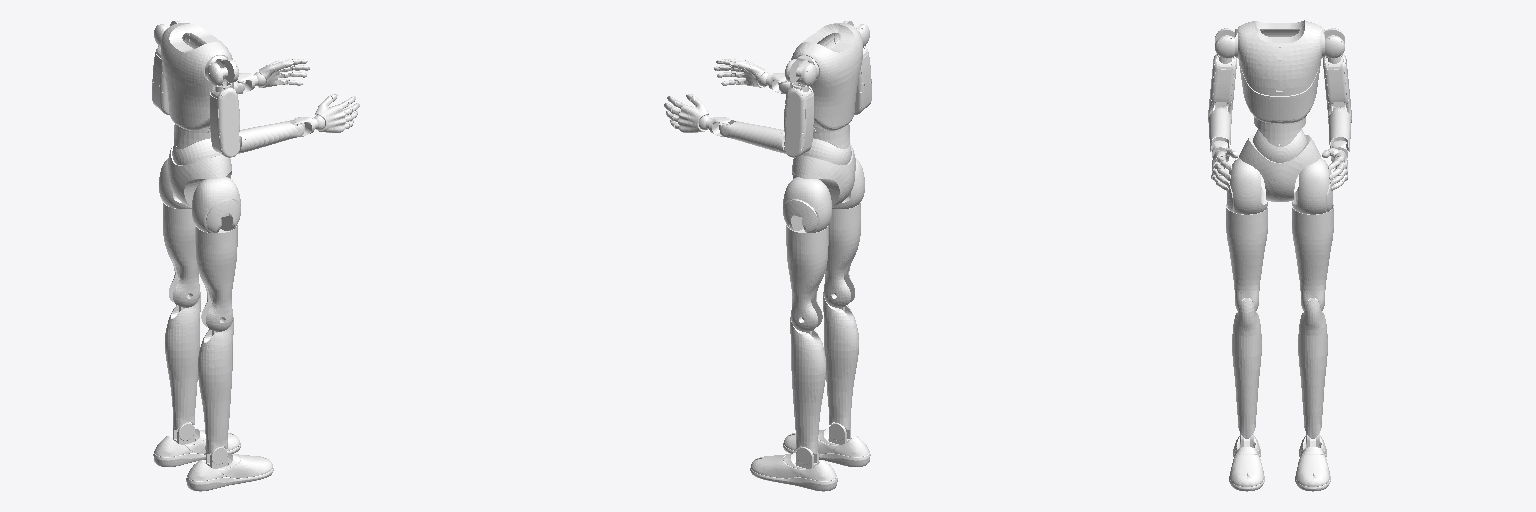
--- What the picture shows (computed from the rendered views, not written in the file) ---
The picture shows the robot from 3 angles, left to right: view 1: azimuth 30°, elevation 25°; view 2: azimuth 150°, elevation 25°; view 3: azimuth 270°, elevation 25°; orthographic projection.
Robot: X03B — 29 links, 28 joints (28 revolute); root link pelvis; default pose: every joint at zero.
Visible links, largest first — view 1: torso_link, right_knee_link, left_knee_link, right_hip_yaw_link, left_hip_yaw_link, pelvis, right_hip_pitch_link, right_ankle_roll_link, right_shoulder_yaw_link, left_ankle_roll_link, right_wrist_yaw_link, left_wrist_yaw_link (+4 smaller); view 2: torso_link, left_knee_link, right_knee_link, left_hip_yaw_link, right_hip_yaw_link, pelvis, left_hip_pitch_link, left_ankle_roll_link, left_shoulder_yaw_link, right_ankle_roll_link, left_wrist_yaw_link, right_wrist_yaw_link (+4 smaller); view 3: torso_link, pelvis, left_knee_link, right_knee_link, left_hip_yaw_link, right_hip_yaw_link, left_hip_pitch_link, right_hip_pitch_link, left_ankle_roll_link, right_ankle_roll_link, left_shoulder_yaw_link, right_shoulder_yaw_link (+6 smaller).
Boxes of the visible links, <box> form: torso_link: <box>161,23,233,148</box>; right_knee_link: <box>198,317,233,453</box>; left_knee_link: <box>165,292,200,429</box>; right_hip_yaw_link: <box>195,224,237,331</box>; left_hip_yaw_link: <box>163,202,199,307</box>; pelvis: <box>168,138,231,207</box>; right_hip_pitch_link: <box>192,177,240,232</box>; right_ankle_roll_link: <box>186,453,273,491</box>; right_shoulder_yaw_link: <box>210,82,239,157</box>; left_ankle_roll_link: <box>153,429,240,466</box>; right_wrist_yaw_link: <box>293,94,359,136</box>; left_wrist_yaw_link: <box>238,59,309,93</box>; torso_link: <box>790,23,862,148</box>; left_knee_link: <box>790,317,825,453</box>; right_knee_link: <box>823,292,858,429</box>; left_hip_yaw_link: <box>786,224,828,331</box>; right_hip_yaw_link: <box>824,202,860,307</box>; pelvis: <box>792,138,855,207</box>; left_hip_pitch_link: <box>783,177,831,232</box>; left_ankle_roll_link: <box>750,453,837,491</box>; left_shoulder_yaw_link: <box>784,82,813,157</box>; right_ankle_roll_link: <box>783,429,870,466</box>; left_wrist_yaw_link: <box>664,94,730,136</box>; right_wrist_yaw_link: <box>714,59,785,93</box>; torso_link: <box>1238,20,1321,146</box>; pelvis: <box>1239,130,1320,201</box>; left_knee_link: <box>1298,298,1327,438</box>; right_knee_link: <box>1232,298,1261,438</box>; left_hip_yaw_link: <box>1292,204,1333,310</box>; right_hip_yaw_link: <box>1226,204,1267,310</box>; left_hip_pitch_link: <box>1292,158,1332,214</box>; right_hip_pitch_link: <box>1227,158,1267,214</box>; left_ankle_roll_link: <box>1295,436,1330,491</box>; right_ankle_roll_link: <box>1229,436,1264,491</box>; left_shoulder_yaw_link: <box>1323,54,1351,122</box>; right_shoulder_yaw_link: <box>1208,54,1236,122</box>.
Size in the robot's own frame: 0.5613 by 0.4263 by 1.44 metres.
Meshes: 29 distinct files referenced, 29 mesh visuals loaded (29 binary STL).

URDF robot description (X03B):
<robot name="X03B">

  <mujoco>
    <compiler meshdir="./meshes" discardvisual="false" />
  </mujoco>



  <link name="pelvis">
    <inertial>
      <origin xyz="0 0 0.11577583" rpy="0 0 0" />
      <mass value="3.65" />
      <inertia ixx="0.01846548" ixy="-0.00000036" ixz="0.00000008" iyy="0.01905011" iyz="0.00000014" izz="0.0127755" />
    </inertial>
    <visual>
      <origin xyz="0 0 0" rpy="0 0 0" />
      <geometry>
        <mesh filename="meshes/pelvis.STL" />
      </geometry>
      <material name="">
        <color rgba="1 1 1 1" />
      </material>
    </visual>
    <collision>
      <origin xyz="0 0 0" rpy="0 0 0" />
      <geometry>
        <mesh filename="meshes/pelvis.STL" />
      </geometry>
    </collision>
  </link>
  <link name="left_hip_pitch_link">
    <inertial>
      <origin xyz="-0.00007014 0.04169743 -0.02056864" rpy="0 0 0" />
      <mass value="2.167" />
      <inertia ixx="0.00622358" ixy="0" ixz="0" iyy="0.00797221" iyz="0" izz="0.00524355" />
    </inertial>
    <visual>
      <origin xyz="0 0 0" rpy="0 0 0" />
      <geometry>
        <mesh filename="meshes/left_hip_pitch_link.STL" />
      </geometry>
      <material name="">
        <color rgba="1 1 1 1" />
      </material>
    </visual>
    <collision>
      <origin xyz="0 0 0" rpy="0 0 0" />
      <geometry>
        <mesh filename="meshes/left_hip_pitch_link.STL" />
      </geometry>
    </collision>
  </link>
  <joint name="left_hip_pitch_joint" type="revolute">
    <origin xyz="0 0.056998 0.044" rpy="0 0 0" />
    <parent link="pelvis" />
    <child link="left_hip_pitch_link" />
    <axis xyz="0 1 0" />
    <limit lower="-2.3562" upper="2.3562" effort="75" velocity="6.28" />
  </joint>
  <link name="left_hip_roll_link">
    <inertial>
      <origin xyz="0 0 -0.03313914" rpy="0 0 0" />
      <mass value="0.05" />
      <inertia ixx="0.00000448" ixy="0" ixz="0" iyy="0.00000448" iyz="0" izz="0.00000563" />
    </inertial>
    <visual>
      <origin xyz="0 0 0" rpy="0 0 0" />
      <geometry>
        <mesh filename="meshes/left_hip_roll_link.STL" />
      </geometry>
      <material name="">
        <color rgba="1 1 1 1" />
      </material>
    </visual>
    <collision>
      <origin xyz="0 0 0" rpy="0 0 0" />
      <geometry>
        <mesh filename="meshes/left_hip_roll_link.STL" />
      </geometry>
    </collision>
  </link>
  <joint name="left_hip_roll_joint" type="revolute">
    <origin xyz="0 0.040491 -0.044" rpy="0 0 0" />
    <parent link="left_hip_pitch_link" />
    <child link="left_hip_roll_link" />
    <axis xyz="1 0 0" />
    <limit lower="-0.5236" upper="1.6581" effort="140.2" velocity="20.94" />
  </joint>
  <link name="left_hip_yaw_link">
    <inertial>
      <origin xyz="0.00240937 0 -0.17118041" rpy="0 0 0" />
      <mass value="2.4" />
      <inertia ixx="0.01591187" ixy="0.00000005" ixz="-0.00051861" iyy="0.01593705" iyz="-0.00000022" izz="0.00376763" />
    </inertial>
    <visual>
      <origin xyz="0 0 0" rpy="0 0 0" />
      <geometry>
        <mesh filename="meshes/left_hip_yaw_link.STL" />
      </geometry>
      <material name="">
        <color rgba="1 1 1 1" />
      </material>
    </visual>
<!--    <collision>-->
<!--      <origin xyz="0 0 0" rpy="0 0 0" />-->
<!--      <geometry>-->
<!--        <mesh filename="meshes/left_hip_yaw_link.STL" />-->
<!--      </geometry>-->
<!--    </collision>-->
  </link>
  <joint name="left_hip_yaw_joint" type="revolute">
    <origin xyz="0 0 0" rpy="0 0 0" />
    <parent link="left_hip_roll_link" />
    <child link="left_hip_yaw_link" />
    <axis xyz="0 0 1" />
    <limit lower="-1.9199" upper="3.1416" effort="88.2" velocity="20.94" />
  </joint>
  <link name="left_knee_link">
    <inertial>
      <origin xyz="0.00029886 0 -0.21070506" rpy="0 0 0" />
      <mass value="1.5" />
      <inertia ixx="0.01590369" ixy="0" ixz="0.00028931" iyy="0.01627459" iyz="0" izz="0.00147099" />
    </inertial>
    <visual>
      <origin xyz="0 0 0" rpy="0 0 0" />
      <geometry>
        <mesh filename="meshes/left_knee_link.STL" />
      </geometry>
      <material name="">
        <color rgba="1 1 1 1" />
      </material>
    </visual>
    <collision>
      <origin xyz="0 0 0" rpy="0 0 0" />
      <geometry>
        <mesh filename="meshes/left_knee_link.STL" />
      </geometry>
    </collision>
  </link>
  <joint name="left_knee_joint" type="revolute">
    <origin xyz="0 0 -0.339" rpy="0 0 0" />
    <parent link="left_hip_yaw_link" />
    <child link="left_knee_link" />
    <axis xyz="0 1 0" />
    <limit lower="0" upper="2.3562" effort="140.2" velocity="20.71" />
  </joint>
  <link name="left_ankle_pitch_link">
    <inertial>
      <origin xyz="0.00046495 0 -0.03562666" rpy="0 0 0" />
      <mass value="0.5" />
      <inertia ixx="0.00043979" ixy="0" ixz="0" iyy="0.00048777" iyz="0" izz="0.00019678" />
    </inertial>
    <visual>
      <origin xyz="0 0 0" rpy="0 0 0" />
      <geometry>
        <mesh filename="meshes/left_ankle_pitch_link.STL" />
      </geometry>
      <material name="">
        <color rgba="1 1 1 1" />
      </material>
    </visual>
    <collision>
      <origin xyz="0 0 0" rpy="0 0 0" />
      <geometry>
        <mesh filename="meshes/left_ankle_pitch_link.STL" />
      </geometry>
    </collision>
  </link>
  <joint name="left_ankle_pitch_joint" type="revolute">
    <origin xyz="0 0 -0.45" rpy="0 0 0" />
    <parent link="left_knee_link" />
    <child link="left_ankle_pitch_link" />
    <axis xyz="0 1 0" />
    <limit lower="-1.0472" upper="1.0472" effort="50.6" velocity="20.68" />
  </joint>
  <link name="left_ankle_roll_link">
    <inertial>
      <origin xyz="0.05278947 -0.000008 -0.0124553" rpy="0 0 0" />
      <mass value="1" />
      <inertia ixx="0.00097623" ixy="0.00000016" ixz="-0.00019555" iyy="0.00629204" iyz="0.00000009" izz="0.0065008" />
    </inertial>
    <visual>
      <origin xyz="0 0 0" rpy="0 0 0" />
      <geometry>
        <mesh filename="meshes/left_ankle_roll_link.STL" />
      </geometry>
      <material name="">
        <color rgba="1 1 1 1" />
      </material>
    </visual>
    <collision><origin xyz="-0.085  0 -0.036"/><geometry><sphere radius="0.005"/></geometry></collision>
    <collision><origin xyz="-0.035  0.034 -0.036"/><geometry><sphere radius="0.005"/></geometry></collision>
    <collision><origin xyz="-0.035 -0.034 -0.036"/><geometry><sphere radius="0.005"/></geometry></collision>
    <collision><origin xyz="0.12    0.045 -0.036"/><geometry><sphere radius="0.005"/></geometry></collision>
    <collision><origin xyz="0.12   -0.045 -0.036"/><geometry><sphere radius="0.005"/></geometry></collision>
    <collision><origin xyz="0.18  0  -0.036"/><geometry><sphere radius="0.005"/></geometry></collision>
    <collision>
            <origin xyz="0.08 -0.026 -0.024" rpy="0 1.5708 0"/>
            <geometry>
                <cylinder radius="0.01" length="0.1"/>
            </geometry>
    </collision>
    <collision>
            <origin xyz="0.044 -0.018 -0.024" rpy="0 -1.5708 0"/>
            <geometry>
                <cylinder radius="0.01" length="0.2"/>
            </geometry>
    </collision>
    <collision>
            <origin xyz="0.046 -0.01 -0.024" rpy="0 -1.5708 0"/>
            <geometry>
                <cylinder radius="0.01" length="0.24"/>
            </geometry>
    </collision>
    <collision>
            <origin xyz="0.048 0 -0.024" rpy="0 -1.5708 0"/>
            <geometry>
                <cylinder radius="0.01" length="0.25"/>
            </geometry>
    </collision>
    <collision>
            <origin xyz="0.046 0.01 -0.024" rpy="0 -1.5708 0"/>
            <geometry>
                <cylinder radius="0.01" length="0.24"/>
            </geometry>
    </collision>
    <collision>
            <origin xyz="0.044 0.018 -0.024" rpy="0 -1.5708 0"/>
            <geometry>
                <cylinder radius="0.01" length="0.2"/>
            </geometry>
    </collision>
    <collision>
            <origin xyz="0.08 0.026 -0.024" rpy="0 1.5708 0"/>
            <geometry>
                <cylinder radius="0.01" length="0.1"/>
            </geometry>
    </collision>
  </link>
  <joint name="left_ankle_roll_joint" type="revolute">
    <origin xyz="0 0 -0.058" rpy="0 0 0" />
    <parent link="left_ankle_pitch_link" />
    <child link="left_ankle_roll_link" />
    <axis xyz="1 0 0" />
    <limit lower="-0.5236" upper="0.5236" effort="50" velocity="20.19" />
  </joint>
  <link name="right_hip_pitch_link">
    <inertial>
      <origin xyz="-0.00007014 -0.04169743 -0.02056864" rpy="0 0 0" />
      <mass value="2.167" />
      <inertia ixx="0.00622358" ixy="0" ixz="0" iyy="0.00797221" iyz="0" izz="0.00524355" />
    </inertial>
    <visual>
      <origin xyz="0 0 0" rpy="0 0 0" />
      <geometry>
        <mesh filename="meshes/right_hip_pitch_link.STL" />
      </geometry>
      <material name="">
        <color rgba="1 1 1 1" />
      </material>
    </visual>
    <collision>
      <origin xyz="0 0 0" rpy="0 0 0" />
      <geometry>
        <mesh filename="meshes/right_hip_pitch_link.STL" />
      </geometry>
    </collision>
  </link>
  <joint name="right_hip_pitch_joint" type="revolute">
    <origin xyz="0 -0.056998 0.044" rpy="0 0 0" />
    <parent link="pelvis" />
    <child link="right_hip_pitch_link" />
    <axis xyz="0 1 0" />
    <limit lower="-2.3562" upper="2.3562" effort="88" velocity="20.28" />
  </joint>
  <link name="right_hip_roll_link">
    <inertial>
      <origin xyz="0 0 -0.03313914" rpy="0 0 0" />
      <mass value="0.05" />
      <inertia ixx="0.00000448" ixy="0" ixz="0" iyy="0.00000448" iyz="0" izz="0.00000563" />
    </inertial>
    <visual>
      <origin xyz="0 0 0" rpy="0 0 0" />
      <geometry>
        <mesh filename="meshes/right_hip_roll_link.STL" />
      </geometry>
      <material name="">
        <color rgba="1 1 1 1" />
      </material>
    </visual>
    <collision>
      <origin xyz="0 0 0" rpy="0 0 0" />
      <geometry>
        <mesh filename="meshes/right_hip_roll_link.STL" />
      </geometry>
    </collision>
  </link>
  <joint name="right_hip_roll_joint" type="revolute">
    <origin xyz="0 -0.040491 -0.044" rpy="0 0 0" />
    <parent link="right_hip_pitch_link" />
    <child link="right_hip_roll_link" />
    <axis xyz="1 0 0" />
    <limit lower="-1.6581" upper="0.5236" effort="140.2" velocity="20.94" />
  </joint>
  <link name="right_hip_yaw_link">
    <inertial>
      <origin xyz="0.00240937 0 -0.17118041" rpy="0 0 0" />
      <mass value="2.4" />
      <inertia ixx="0.01591187" ixy="0.00000005" ixz="-0.00051861" iyy="0.01593705" iyz="-0.00000022" izz="0.00376763" />
    </inertial>
    <visual>
      <origin xyz="0 0 0" rpy="0 0 0" />
      <geometry>
        <mesh filename="meshes/right_hip_yaw_link.STL" />
      </geometry>
      <material name="">
        <color rgba="1 1 1 1" />
      </material>
    </visual>
<!--    <collision>-->
<!--      <origin xyz="0 0 0" rpy="0 0 0" />-->
<!--      <geometry>-->
<!--        <mesh filename="meshes/right_hip_yaw_link.STL" />-->
<!--      </geometry>-->
<!--    </collision>-->
  </link>
  <joint name="right_hip_yaw_joint" type="revolute">
    <origin xyz="0 0 0" rpy="0 0 0" />
    <parent link="right_hip_roll_link" />
    <child link="right_hip_yaw_link" />
    <axis xyz="0 0 1" />
    <limit lower="-3.1416" upper="1.9199" effort="88.2" velocity="20.94" />
  </joint>
  <link name="right_knee_link">
    <inertial>
      <origin xyz="0.00029886 0 -0.21070506" rpy="0 0 0" />
      <mass value="1.5" />
      <inertia ixx="0.01590369" ixy="0" ixz="0.00028931" iyy="0.01627459" iyz="0" izz="0.00147099" />
    </inertial>
    <visual>
      <origin xyz="0 0 0" rpy="0 0 0" />
      <geometry>
        <mesh filename="meshes/right_knee_link.STL" />
      </geometry>
      <material name="">
        <color rgba="1 1 1 1" />
      </material>
    </visual>
    <collision>
      <origin xyz="0 0 0" rpy="0 0 0" />
      <geometry>
        <mesh filename="meshes/right_knee_link.STL" />
      </geometry>
    </collision>
  </link>
  <joint name="right_knee_joint" type="revolute">
    <origin xyz="0 0 -0.339" rpy="0 0 0" />
    <parent link="right_hip_yaw_link" />
    <child link="right_knee_link" />
    <axis xyz="0 1 0" />
    <limit lower="0" upper="2.3562" effort="140.2" velocity="20.71" />
  </joint>
  <link name="right_ankle_pitch_link">
    <inertial>
      <origin xyz="0.00046495 0 -0.03562666" rpy="0 0 0" />
      <mass value="0.5" />
      <inertia ixx="0.00043979" ixy="0" ixz="0" iyy="0.00048777" iyz="0" izz="0.00019678" />
    </inertial>
    <visual>
      <origin xyz="0 0 0" rpy="0 0 0" />
      <geometry>
        <mesh filename="meshes/right_ankle_pitch_link.STL" />
      </geometry>
      <material name="">
        <color rgba="1 1 1 1" />
      </material>
    </visual>
    <collision>
      <origin xyz="0 0 0" rpy="0 0 0" />
      <geometry>
        <mesh filename="meshes/right_ankle_pitch_link.STL" />
      </geometry>
    </collision>
  </link>
  <joint name="right_ankle_pitch_joint" type="revolute">
    <origin xyz="0 0 -0.45" rpy="0 0 0" />
    <parent link="right_knee_link" />
    <child link="right_ankle_pitch_link" />
    <axis xyz="0 1 0" />
    <limit lower="-1.0472" upper="1.0472" effort="50.6" velocity="20.68" />
  </joint>
  <link name="right_ankle_roll_link">
    <inertial>
      <origin xyz="0.05278947 -0.000008 -0.0124553" rpy="0 0 0" />
      <mass value="1" />
      <inertia ixx="0.00097623" ixy="0.00000016" ixz="-0.00019555" iyy="0.00629204" iyz="0.00000009" izz="0.0065008" />
    </inertial>
    <visual>
      <origin xyz="0 0 0" rpy="0 0 0" />
      <geometry>
        <mesh filename="meshes/right_ankle_roll_link.STL" />
      </geometry>
      <material name="">
        <color rgba="1 1 1 1" />
      </material>
    </visual>
    <collision><origin xyz="-0.085  0 -0.036"/><geometry><sphere radius="0.005"/></geometry></collision>
    <collision><origin xyz="-0.035  0.034 -0.036"/><geometry><sphere radius="0.005"/></geometry></collision>
    <collision><origin xyz="-0.035 -0.034 -0.036"/><geometry><sphere radius="0.005"/></geometry></collision>
    <collision><origin xyz="0.12    0.045 -0.036"/><geometry><sphere radius="0.005"/></geometry></collision>
    <collision><origin xyz="0.12   -0.045 -0.036"/><geometry><sphere radius="0.005"/></geometry></collision>
    <collision><origin xyz="0.18  0  -0.036"/><geometry><sphere radius="0.005"/></geometry></collision>
    <collision>
            <origin xyz="0.08 -0.026 -0.024" rpy="0 1.5708 0"/>
            <geometry>
                <cylinder radius="0.01" length="0.1"/>
            </geometry>
    </collision>
    <collision>
            <origin xyz="0.044 -0.018 -0.024" rpy="0 -1.5708 0"/>
            <geometry>
                <cylinder radius="0.01" length="0.2"/>
            </geometry>
    </collision>
    <collision>
            <origin xyz="0.046 -0.01 -0.024" rpy="0 -1.5708 0"/>
            <geometry>
                <cylinder radius="0.01" length="0.24"/>
            </geometry>
    </collision>
    <collision>
            <origin xyz="0.048 0 -0.024" rpy="0 -1.5708 0"/>
            <geometry>
                <cylinder radius="0.01" length="0.25"/>
            </geometry>
    </collision>
    <collision>
            <origin xyz="0.046 0.01 -0.024" rpy="0 -1.5708 0"/>
            <geometry>
                <cylinder radius="0.01" length="0.24"/>
            </geometry>
    </collision>
    <collision>
            <origin xyz="0.044 0.018 -0.024" rpy="0 -1.5708 0"/>
            <geometry>
                <cylinder radius="0.01" length="0.2"/>
            </geometry>
    </collision>
    <collision>
            <origin xyz="0.08 0.026 -0.024" rpy="0 1.5708 0"/>
            <geometry>
                <cylinder radius="0.01" length="0.1"/>
            </geometry>
    </collision>
  </link>
  <joint name="right_ankle_roll_joint" type="revolute">
    <origin xyz="0 0 -0.058" rpy="0 0 0" />
    <parent link="right_ankle_pitch_link" />
    <child link="right_ankle_roll_link" />
    <axis xyz="1 0 0" />
    <limit lower="-0.5236" upper="0.5236" effort="50" velocity="20.19" />
  </joint>
  <link name="waist_roll_link">
    <inertial>
      <origin xyz="0 0 0" rpy="0 0 0" />
      <mass value="0.05" />
      <inertia ixx="0.00000563" ixy="0" ixz="0" iyy="0.00000448" iyz="0" izz="0.00000448" />
    </inertial>
    <visual>
      <origin xyz="0 0 0" rpy="0 0 0" />
      <geometry>
        <mesh filename="meshes/waist_roll_link.STL" />
      </geometry>
      <material name="">
        <color rgba="1 1 1 1" />
      </material>
    </visual>
  </link>
  <joint name="waist_roll_joint" type="revolute">
    <origin xyz="0 0 0.1945" rpy="0 0 0" />
    <parent link="pelvis" />
    <child link="waist_roll_link" />
    <axis xyz="1 0 0" />
    <limit lower="-0.3491" upper="0.3491" effort="60.2" velocity="20.94" />
  </joint>

  <link name="torso_link">
    <inertial>
      <origin xyz="-0.00239171 -0.00000374 0.17963234" rpy="0 0 0" />
      <mass value="3" />
      <inertia ixx="0.0276623" ixy="0.00000008" ixz="-0.000633" iyy="0.02528834" iyz="-0.00000034" izz="0.01678696" />
    </inertial>
    <visual>
      <origin xyz="0 0 0" rpy="0 0 0" />
      <geometry>
        <mesh filename="meshes/torso_link.STL" />
      </geometry>
      <material name="">
        <color rgba="1 1 1 1" />
      </material>
    </visual>
<!--    <collision>-->
<!--      <origin xyz="0 0 0" rpy="0 0 0" />-->
<!--      <geometry>-->
<!--        <mesh filename="meshes/torso_link.STL" />-->
<!--      </geometry>-->
<!--    </collision>-->
  </link>
  <joint name="waist_yaw_joint" type="revolute">
    <origin xyz="0 0 0" rpy="0 0 0" />
    <parent link="waist_roll_link" />
    <child link="torso_link" />
    <axis xyz="0 0 1" />
    <limit lower="-1.8326" upper="1.8326" effort="60.2" velocity="20.94" />
  </joint>
  <link name="left_shoulder_pitch_link">
    <inertial>
      <origin xyz="0.00000104 0.02551192 0" rpy="0 0 0" />
      <mass value="1.22" />
      <inertia ixx="0.00125717" ixy="0.00000002" ixz="-0.00000002" iyy="0.00148057" iyz="0" izz="0.00148131" />
    </inertial>
    <visual>
      <origin xyz="0 0 0" rpy="0 0 0" />
      <geometry>
        <mesh filename="meshes/left_shoulder_pitch_link.STL" />
      </geometry>
      <material name="">
        <color rgba="1 1 1 1" />
      </material>
    </visual>
    <collision>
      <origin xyz="0 0 0" rpy="0 0 0" />
      <geometry>
        <mesh filename="meshes/left_shoulder_pitch_link.STL" />
      </geometry>
    </collision>
  </link>
  <joint name="left_shoulder_pitch_joint" type="revolute">
    <origin xyz="-0.012293 0.12327 0.2885" rpy="0 0 0" />
    <parent link="torso_link" />
    <child link="left_shoulder_pitch_link" />
    <axis xyz="0 1 0" />
    <limit lower="-3.1416" upper="1.5708" effort="50" velocity="12.51" />
  </joint>
  <link name="left_shoulder_roll_link">
    <inertial>
      <origin xyz="0 0 0" rpy="0 0 0" />
      <mass value="0.05" />
      <inertia ixx="0.00000563" ixy="0" ixz="0" iyy="0.00000448" iyz="0" izz="0.00000448" />
    </inertial>
    <visual>
      <origin xyz="0 0 0" rpy="0 0 0" />
      <geometry>
        <mesh filename="meshes/left_shoulder_roll_link.STL" />
      </geometry>
      <material name="">
        <color rgba="1 1 1 1" />
      </material>
    </visual>
    <collision>
      <origin xyz="0 0 0" rpy="0 0 0" />
      <geometry>
        <mesh filename="meshes/left_shoulder_roll_link.STL" />
      </geometry>
    </collision>
  </link>
  <joint name="left_shoulder_roll_joint" type="revolute">
    <origin xyz="0 0.033483 0" rpy="0.087266 0 0" />
    <parent link="left_shoulder_pitch_link" />
    <child link="left_shoulder_roll_link" />
    <axis xyz="1 0 0" />
    <limit lower="0" upper="3.0543" effort="50.6" velocity="20.08" />
  </joint>
  <link name="left_shoulder_yaw_link">
    <inertial>
      <origin xyz="-0.00272365 -0.00000149 -0.13946043" rpy="0 0 0" />
      <mass value="1.5" />
      <inertia ixx="0.00629365" ixy="0" ixz="0.00029271" iyy="0.00652221" iyz="-0.00000006" izz="0.00170187" />
    </inertial>
    <visual>
      <origin xyz="0 0 0" rpy="0 0 0" />
      <geometry>
        <mesh filename="meshes/left_shoulder_yaw_link.STL" />
      </geometry>
      <material name="">
        <color rgba="1 1 1 1" />
      </material>
    </visual>
<!--    <collision>-->
<!--      <origin xyz="0 0 0" rpy="0 0 0" />-->
<!--      <geometry>-->
<!--        <mesh filename="meshes/left_shoulder_yaw_link.STL" />-->
<!--      </geometry>-->
<!--    </collision>-->
  </link>
  <joint name="left_shoulder_yaw_joint" type="revolute">
    <origin xyz="0 0 0" rpy="0 0 0" />
    <parent link="left_shoulder_roll_link" />
    <child link="left_shoulder_yaw_link" />
    <axis xyz="0 0 1" />
    <limit lower="-2.0071" upper="2.0071" effort="50.6" velocity="20.08" />
  </joint>
  <link name="left_elbow_link">
    <inertial>
      <origin xyz="0.01481996 -0.00000187 0.00294173" rpy="0 0 0" />
      <mass value="0.5" />
      <inertia ixx="0.00027423" ixy="-0.00000002" ixz="0.00000163" iyy="0.00029095" iyz="0.00000001" izz="0.00026785" />
    </inertial>
    <visual>
      <origin xyz="0 0 0" rpy="0 0 0" />
      <geometry>
        <mesh filename="meshes/left_elbow_link.STL" />
      </geometry>
      <material name="">
        <color rgba="1 1 1 1" />
      </material>
    </visual>
    <collision>
      <origin xyz="0 0 0" rpy="0 0 0" />
      <geometry>
        <mesh filename="meshes/left_elbow_link.STL" />
      </geometry>
    </collision>
  </link>
  <joint name="left_elbow_joint" type="revolute">
    <origin xyz="0 0 -0.23" rpy="0 0 0" />
    <parent link="left_shoulder_yaw_link" />
    <child link="left_elbow_link" />
    <axis xyz="0 1 0" />
    <limit lower="-0.4363" upper="1.5708" effort="50.8" velocity="20.33" />
  </joint>
  <link name="left_wrist_roll_link">
    <inertial>
      <origin xyz="0.13072566 0 -0.00002867" rpy="0 0 0" />
      <mass value="0.85" />
      <inertia ixx="0.00043014" ixy="0" ixz="-0.0000012" iyy="0.00228248" iyz="0" izz="0.0023166" />
    </inertial>
    <visual>
      <origin xyz="0 0 0" rpy="0 0 0" />
      <geometry>
        <mesh filename="meshes/left_wrist_roll_link.STL" />
      </geometry>
      <material name="">
        <color rgba="1 1 1 1" />
      </material>
    </visual>
    <collision>
      <origin xyz="0 0 0" rpy="0 0 0" />
      <geometry>
        <mesh filename="meshes/left_wrist_roll_link.STL" />
      </geometry>
    </collision>
  </link>
  <joint name="left_wrist_roll_joint" type="revolute">
    <origin xyz="0 0 0" rpy="0 0 0" />
    <parent link="left_elbow_link" />
    <child link="left_wrist_roll_link" />
    <axis xyz="1 0 0" />
    <limit lower="-2.0071" upper="2.0071" effort="20.8" velocity="7.33" />
  </joint>
  <link name="left_wrist_pitch_link">
    <inertial>
      <origin xyz="0.01258175 0 0" rpy="0 0 0" />
      <mass value="0.05" />
      <inertia ixx="0.00000412" ixy="0" ixz="0" iyy="0.00000746" iyz="0" izz="0.0000091" />
    </inertial>
    <visual>
      <origin xyz="0 0 0" rpy="0 0 0" />
      <geometry>
        <mesh filename="meshes/left_wrist_pitch_link.STL" />
      </geometry>
      <material name="">
        <color rgba="1 1 1 1" />
      </material>
    </visual>
    <collision>
      <origin xyz="0 0 0" rpy="0 0 0" />
      <geometry>
        <mesh filename="meshes/left_wrist_pitch_link.STL" />
      </geometry>
    </collision>
  </link>
  <joint name="left_wrist_pitch_joint" type="revolute">
    <origin xyz="0.235 0 0" rpy="0 0 0" />
    <parent link="left_wrist_roll_link" />
    <child link="left_wrist_pitch_link" />
    <axis xyz="0 1 0" />
    <limit lower="-0.6981" upper="0.6981" effort="20.8" velocity="10.74" />
  </joint>
  <link name="left_wrist_yaw_link">
    <inertial>
      <origin xyz="0.05034393 -0.00067096 0.00221444" rpy="0 0 0" />
      <mass value="0.055" />
      <inertia ixx="0.00003055" ixy="-0.00000403" ixz="0.00000829" iyy="0.00016306" iyz="-0.00000299" izz="0.00015005" />
    </inertial>
    <visual>
      <origin xyz="0 0 0" rpy="0 0 0" />
      <geometry>
        <mesh filename="meshes/left_wrist_yaw_link.STL" />
      </geometry>
      <material name="">
        <color rgba="1 1 1 1" />
      </material>
    </visual>
<!--    <collision>-->
<!--      <origin xyz="0 0 0" rpy="0 0 0" />-->
<!--      <geometry>-->
<!--        <mesh filename="meshes/left_wrist_yaw_link.STL" />-->
<!--      </geometry>-->
<!--    </collision>-->
  </link>
  <joint name="left_wrist_yaw_joint" type="revolute">
    <origin xyz="0.0215 0 0" rpy="0 0 0" />
    <parent link="left_wrist_pitch_link" />
    <child link="left_wrist_yaw_link" />
    <axis xyz="0 0 1" />
    <limit lower="-0.8727" upper="0.8727" effort="20.4" velocity="10.47" />
  </joint>
  <link name="right_shoulder_pitch_link">
    <inertial>
      <origin xyz="0.00000104 0.02551192 0" rpy="0 0 0" />
      <mass value="1.22" />
      <inertia ixx="0.00125717" ixy="0.00000002" ixz="-0.00000002" iyy="0.00148057" iyz="0" izz="0.00148131" />
    </inertial>
    <visual>
      <origin xyz="0 0 0" rpy="0 0 0" />
      <geometry>
        <mesh filename="meshes/right_shoulder_pitch_link.STL" />
      </geometry>
      <material name="">
        <color rgba="1 1 1 1" />
      </material>
    </visual>
    <collision>
      <origin xyz="0 0 0" rpy="0 0 0" />
      <geometry>
        <mesh filename="meshes/right_shoulder_pitch_link.STL" />
      </geometry>
    </collision>
  </link>
  <joint name="right_shoulder_pitch_joint" type="revolute">
    <origin xyz="-0.012293 -0.12327 0.2885" rpy="0 0 0" />
    <parent link="torso_link" />
    <child link="right_shoulder_pitch_link" />
    <axis xyz="0 1 0" />
    <limit lower="-3.1416" upper="1.5708" effort="50" velocity="12.51" />
  </joint>
  <link name="right_shoulder_roll_link">
    <inertial>
      <origin xyz="0 0 0" rpy="0 0 0" />
      <mass value="0.05" />
      <inertia ixx="0.00000563" ixy="0" ixz="0" iyy="0.00000448" iyz="0" izz="0.00000448" />
    </inertial>
    <visual>
      <origin xyz="0 0 0" rpy="0 0 0" />
      <geometry>
        <mesh filename="meshes/right_shoulder_roll_link.STL" />
      </geometry>
      <material name="">
        <color rgba="1 1 1 1" />
      </material>
    </visual>
    <collision>
      <origin xyz="0 0 0" rpy="0 0 0" />
      <geometry>
        <mesh filename="meshes/right_shoulder_roll_link.STL" />
      </geometry>
    </collision>
  </link>
  <joint name="right_shoulder_roll_joint" type="revolute">
    <origin xyz="0 -0.033479 0" rpy="-0.087266 0 0" />
    <parent link="right_shoulder_pitch_link" />
    <child link="right_shoulder_roll_link" />
    <axis xyz="1 0 0" />
    <limit lower="-3.0543" upper="0" effort="22.6" velocity="6.08" />
  </joint>
  <link name="right_shoulder_yaw_link">
    <inertial>
      <origin xyz="-0.00272365 -0.00000149 -0.13946043" rpy="0 0 0" />
      <mass value="1.5" />
      <inertia ixx="0.00629365" ixy="0" ixz="0.00029271" iyy="0.00652221" iyz="-0.00000006" izz="0.00170187" />
    </inertial>
    <visual>
      <origin xyz="0 0 0" rpy="0 0 0" />
      <geometry>
        <mesh filename="meshes/right_shoulder_yaw_link.STL" />
      </geometry>
      <material name="">
        <color rgba="1 1 1 1" />
      </material>
    </visual>
<!--    <collision>-->
<!--      <origin xyz="0 0 0" rpy="0 0 0" />-->
<!--      <geometry>-->
<!--        <mesh filename="meshes/right_shoulder_yaw_link.STL" />-->
<!--      </geometry>-->
<!--    </collision>-->
  </link>
  <joint name="right_shoulder_yaw_joint" type="revolute">
    <origin xyz="0 0 0" rpy="0 0 0" />
    <parent link="right_shoulder_roll_link" />
    <child link="right_shoulder_yaw_link" />
    <axis xyz="0 0 1" />
    <limit lower="-2.0071" upper="2.0071" effort="22.6" velocity="6.08" />
  </joint>
  <link name="right_elbow_link">
    <inertial>
      <origin xyz="0.01481996 -0.00000187 0.00294173" rpy="0 0 0" />
      <mass value="0.5" />
      <inertia ixx="0.00027423" ixy="-0.00000002" ixz="0.00000163" iyy="0.00029095" iyz="0.00000001" izz="0.00026785" />
    </inertial>
    <visual>
      <origin xyz="0 0 0" rpy="0 0 0" />
      <geometry>
        <mesh filename="meshes/right_elbow_link.STL" />
      </geometry>
      <material name="">
        <color rgba="1 1 1 1" />
      </material>
    </visual>
    <collision>
      <origin xyz="0 0 0" rpy="0 0 0" />
      <geometry>
        <mesh filename="meshes/right_elbow_link.STL" />
      </geometry>
    </collision>
  </link>
  <joint name="right_elbow_joint" type="revolute">
    <origin xyz="0 0 -0.23" rpy="0 0 0" />
    <parent link="right_shoulder_yaw_link" />
    <child link="right_elbow_link" />
    <axis xyz="0 1 0" />
    <limit lower="-0.4363" upper="1.5708" effort="18.8" velocity="6.08" />
  </joint>
  <link name="right_wrist_roll_link">
    <inertial>
      <origin xyz="0.13072566 0 -0.00002867" rpy="0 0 0" />
      <mass value="0.85" />
      <inertia ixx="0.00043014" ixy="0" ixz="-0.0000012" iyy="0.00228248" iyz="0" izz="0.0023166" />
    </inertial>
    <visual>
      <origin xyz="0 0 0" rpy="0 0 0" />
      <geometry>
        <mesh filename="meshes/right_wrist_roll_link.STL" />
      </geometry>
      <material name="">
        <color rgba="1 1 1 1" />
      </material>
    </visual>
    <collision>
      <origin xyz="0 0 0" rpy="0 0 0" />
      <geometry>
        <mesh filename="meshes/right_wrist_roll_link.STL" />
      </geometry>
    </collision>
  </link>
  <joint name="right_wrist_roll_joint" type="revolute">
    <origin xyz="0 0 0" rpy="0 0 0" />
    <parent link="right_elbow_link" />
    <child link="right_wrist_roll_link" />
    <axis xyz="1 0 0" />
    <limit lower="-2.0071" upper="2.0071" effort="18.8" velocity="7.33" />
  </joint>
  <link name="right_wrist_pitch_link">
    <inertial>
      <origin xyz="0.01258175 0 0" rpy="0 0 0" />
      <mass value="0.05" />
      <inertia ixx="0.00000412" ixy="0" ixz="0" iyy="0.00000746" iyz="0" izz="0.0000091" />
    </inertial>
    <visual>
      <origin xyz="0 0 0" rpy="0 0 0" />
      <geometry>
        <mesh filename="meshes/right_wrist_pitch_link.STL" />
      </geometry>
      <material name="">
        <color rgba="1 1 1 1" />
      </material>
    </visual>
    <collision>
      <origin xyz="0 0 0" rpy="0 0 0" />
      <geometry>
        <mesh filename="meshes/right_wrist_pitch_link.STL" />
      </geometry>
    </collision>
  </link>
  <joint name="right_wrist_pitch_joint" type="revolute">
    <origin xyz="0.235 0 0" rpy="0 0 0" />
    <parent link="right_wrist_roll_link" />
    <child link="right_wrist_pitch_link" />
    <axis xyz="0 1 0" />
    <limit lower="-0.6981" upper="0.6981" effort="20.8" velocity="10.74" />
  </joint>
  <link name="right_wrist_yaw_link">
    <inertial>
      <origin xyz="0.05034393 -0.00067096 0.00221444" rpy="0 0 0" />
      <mass value="0.055" />
      <inertia ixx="0.00003055" ixy="-0.00000403" ixz="0.00000829" iyy="0.00016306" iyz="-0.00000299" izz="0.00015005" />
    </inertial>
    <visual>
      <origin xyz="0 0 0" rpy="0 0 0" />
      <geometry>
        <mesh filename="meshes/right_wrist_yaw_link.STL" />
      </geometry>
      <material name="">
        <color rgba="1 1 1 1" />
      </material>
    </visual>
<!--    <collision>-->
<!--      <origin xyz="0 0 0" rpy="0 0 0" />-->
<!--      <geometry>-->
<!--        <mesh filename="meshes/right_wrist_yaw_link.STL" />-->
<!--      </geometry>-->
<!--    </collision>-->
  </link>
  <joint name="right_wrist_yaw_joint" type="revolute">
    <origin xyz="0.0215 0 0" rpy="0 0 0" />
    <parent link="right_wrist_pitch_link" />
    <child link="right_wrist_yaw_link" />
    <axis xyz="0 0 1" />
    <limit lower="-0.8727" upper="0.8727" effort="20.4" velocity="10.47" />
  </joint>
</robot>
